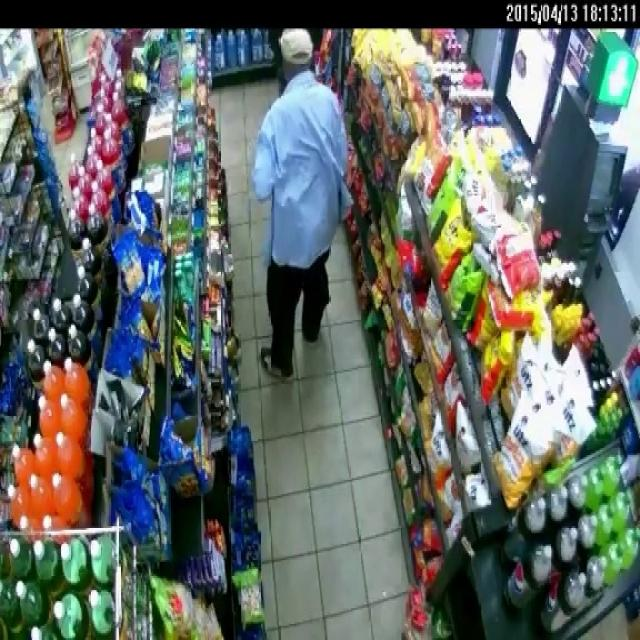normal: (220, 25, 356, 410)
